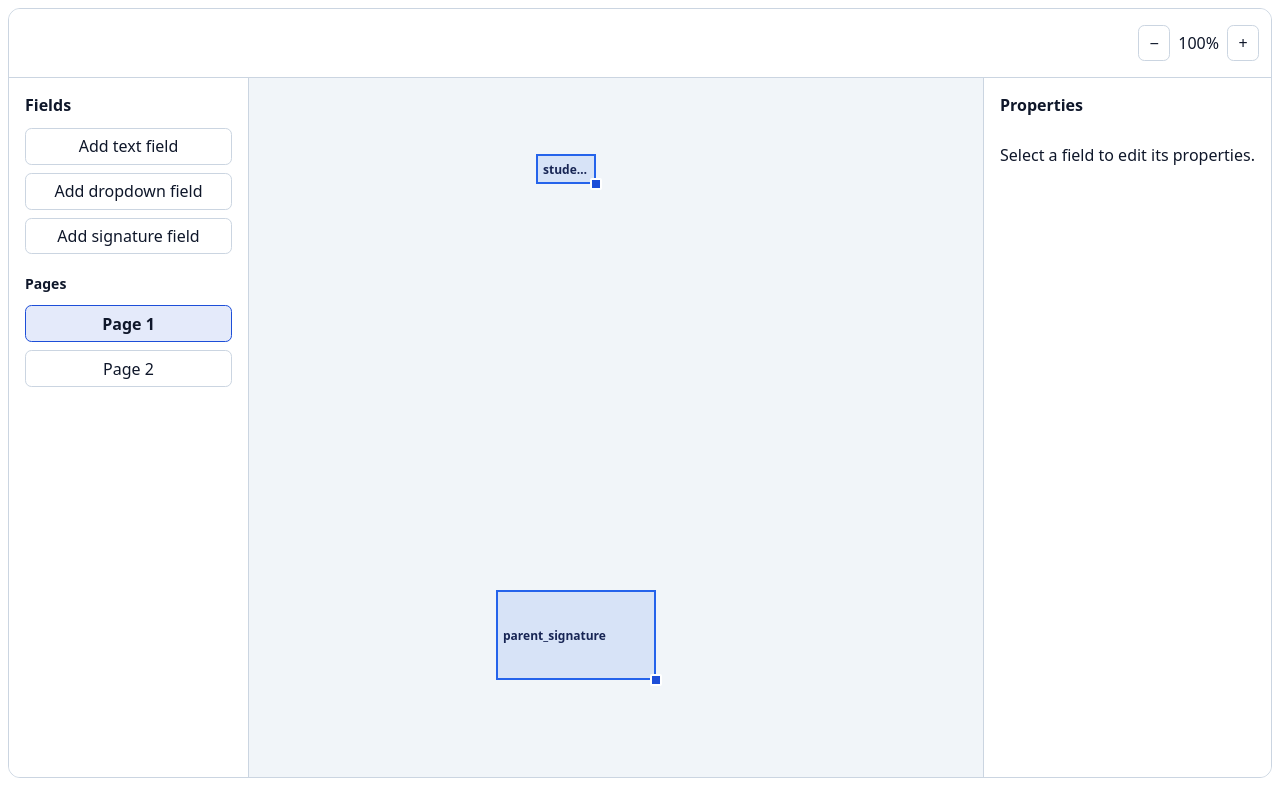
Scenario: PdfFormDesigner › copies and pastes the selected field with Control shortcuts onto the current page
Click the button named "Text field \"student_name\"" at (566, 169), box [536,154,596,184]
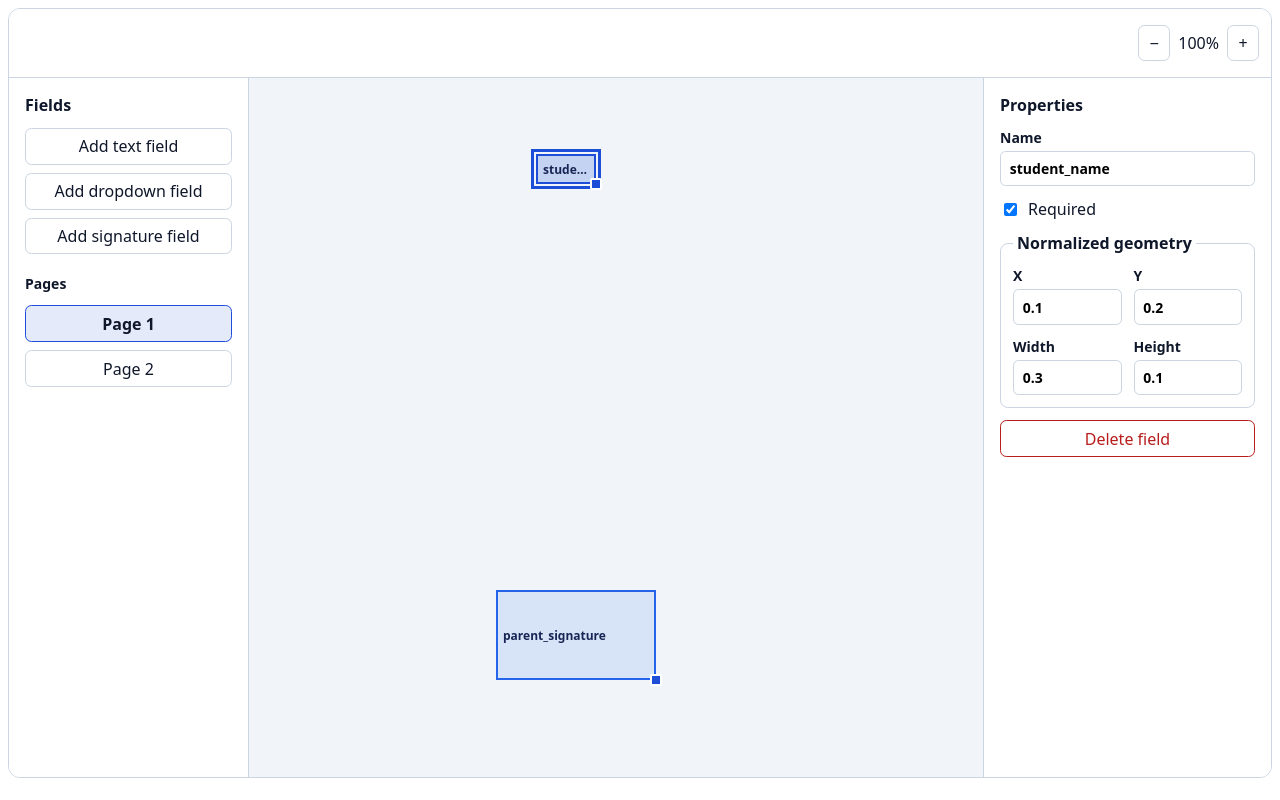
Click the button "Page 2" at (128, 368), box [25,350,232,387]
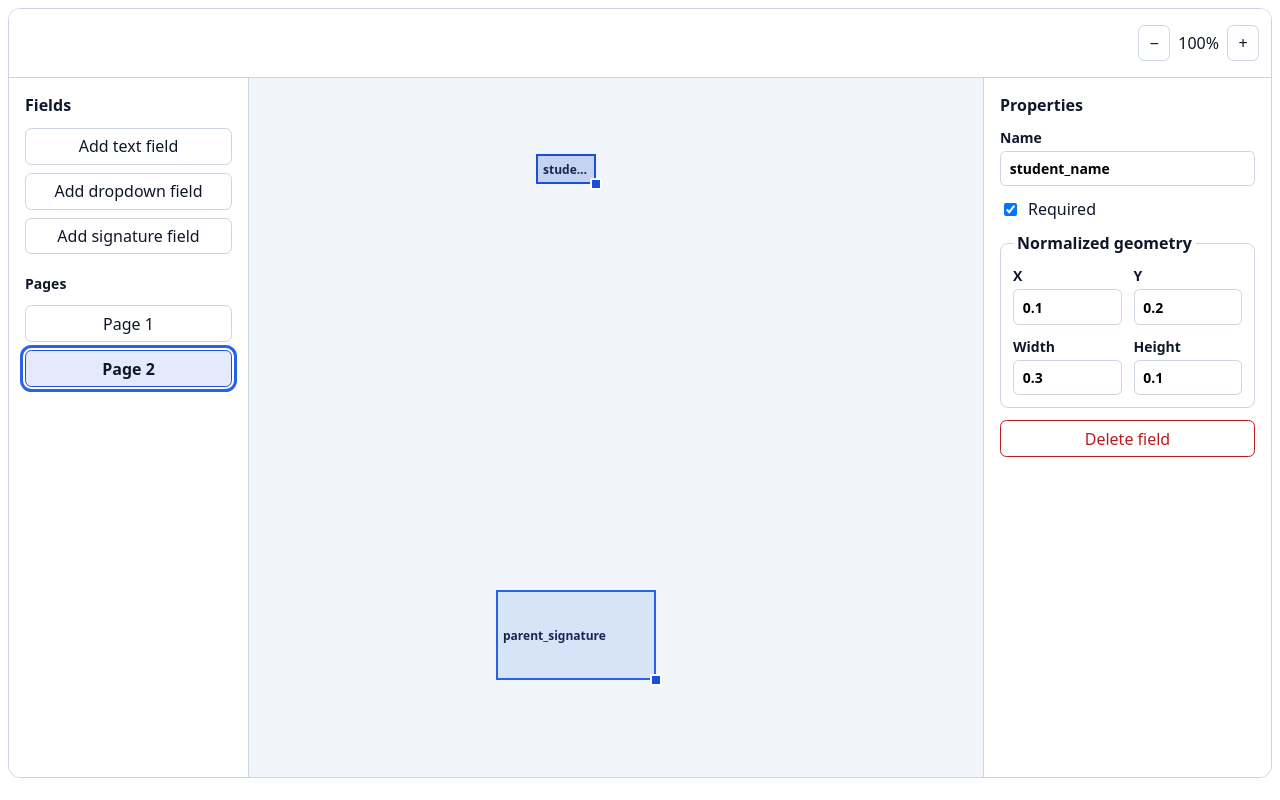
Type keys "{Control>}c{/Control}"
Type keys "{Control>}v{/Control}"
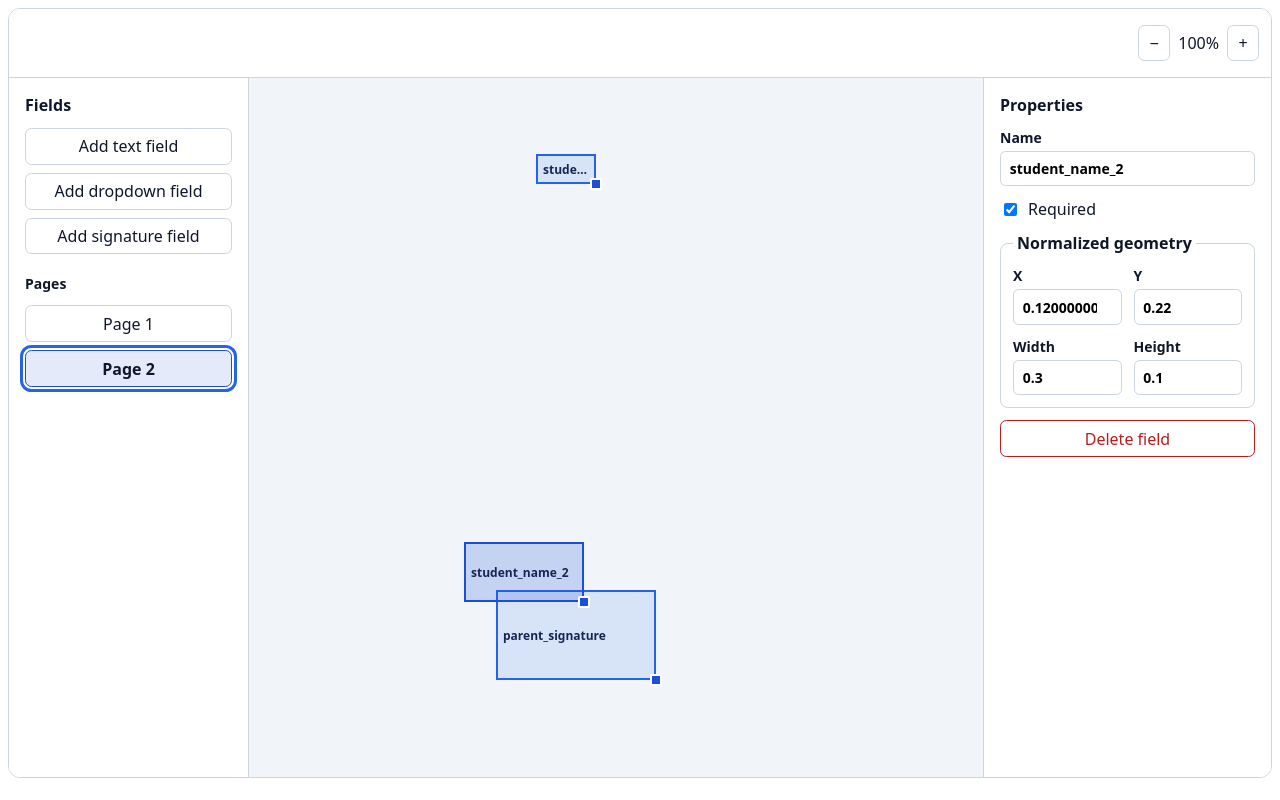
Expected: the button named "Text field \"student_name_2\"" is shown, [464,542,584,602]
